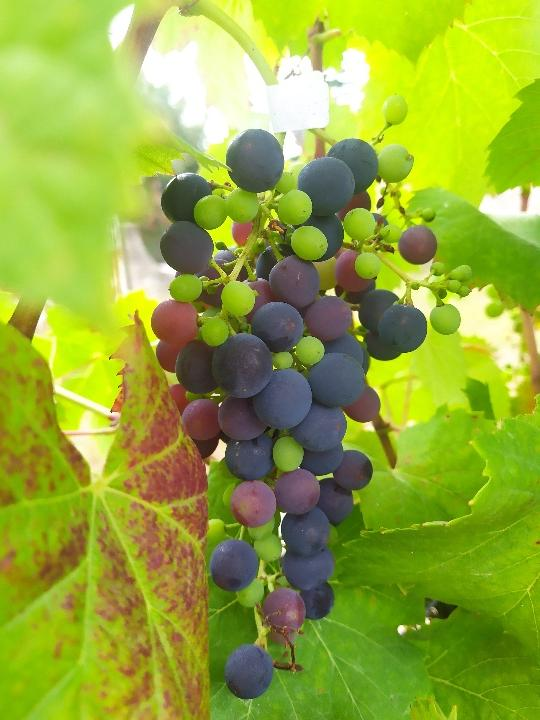grape: (151, 92, 476, 705)
